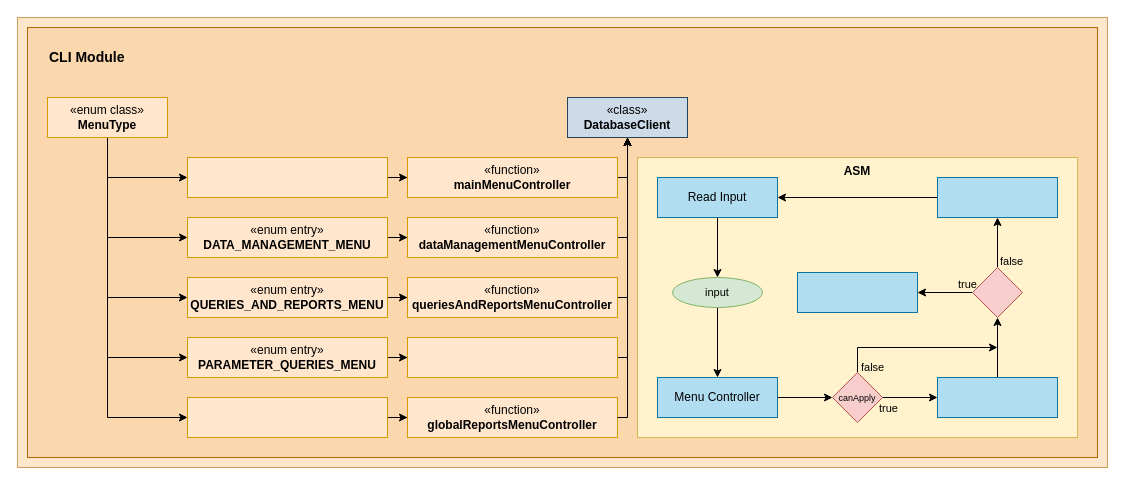
The diagram is 1125 pixels wide and 485 high, and some of its shapes have lost their labels. Here are the shapes that lost their labels. From the top down, the centre of each, then its label:
At point (287, 177): "«enum entry» MAIN_MENU".
At point (997, 197): "Print Menu".
At point (857, 292): "Exit Program".
At point (997, 292): "exit?".
At point (512, 357): "«function» parameterQueriesMenuController".
At point (287, 417): "«enum entry» GLOBAL_REPORTS_MENU".
At point (997, 397): "Apply Changes".
